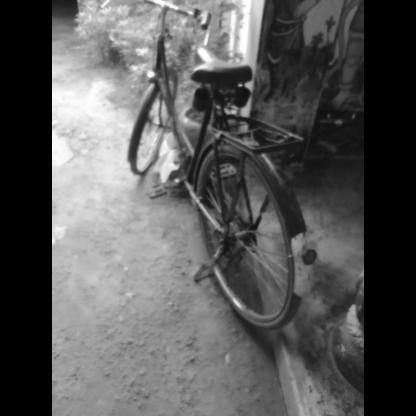Bicycle: (113, 2, 322, 345)
